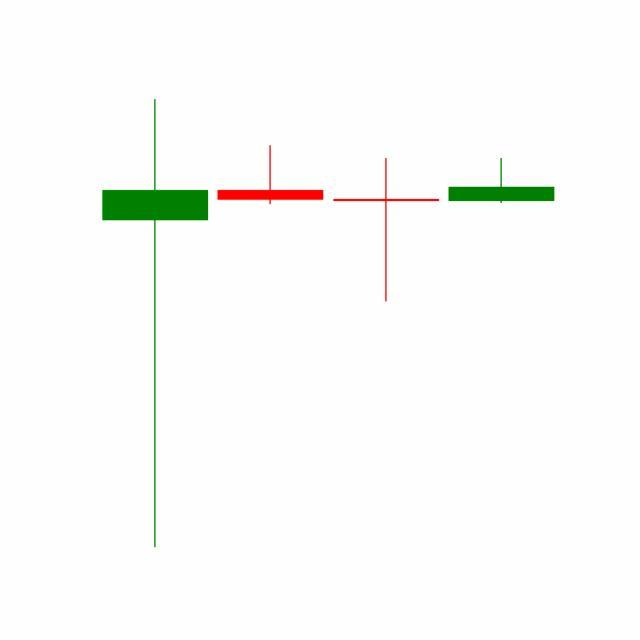Gravestone Doji: (444, 158, 560, 205)
